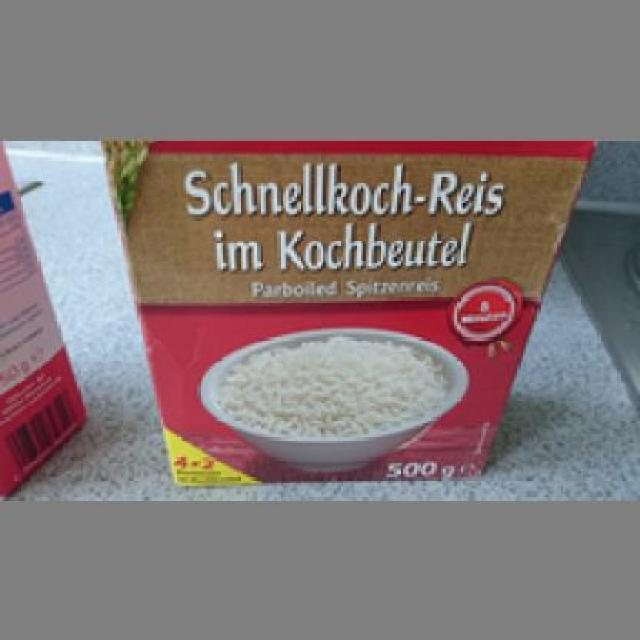Rice: (95, 137, 594, 486)
